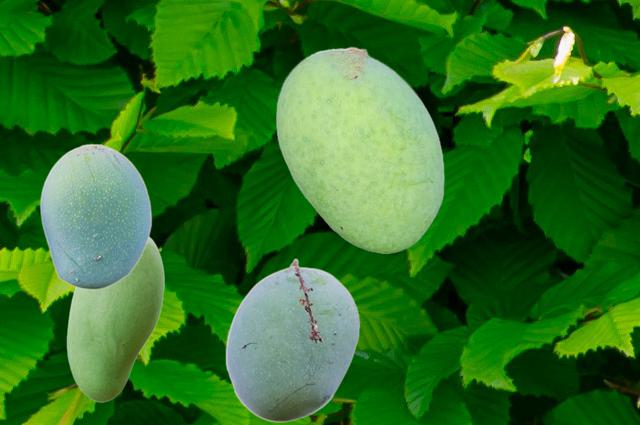green_mango: (276, 46, 443, 252), (225, 258, 359, 421), (39, 143, 151, 289), (66, 236, 163, 401)
